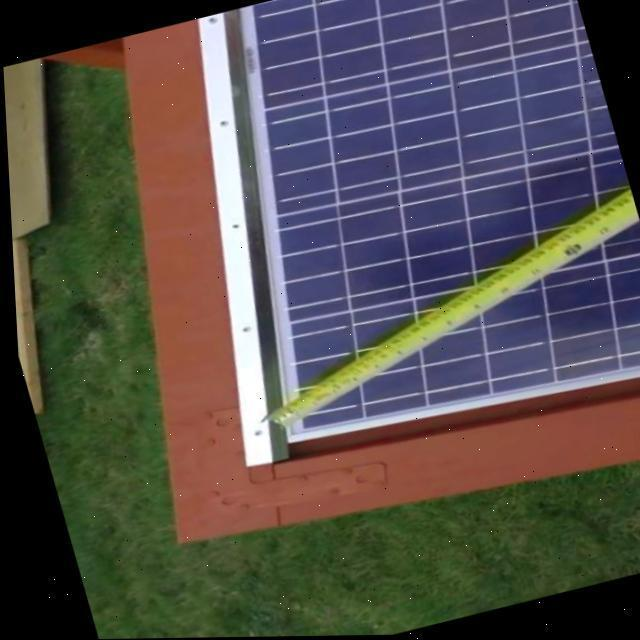Normal Solar Panel: (155, 0, 640, 470)
